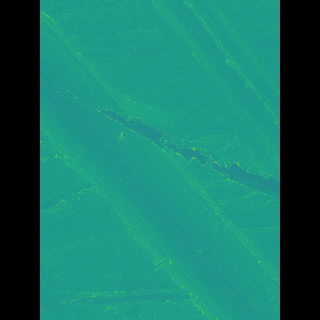Loch: (69, 5, 250, 320), (141, 0, 250, 178), (103, 105, 251, 202)
